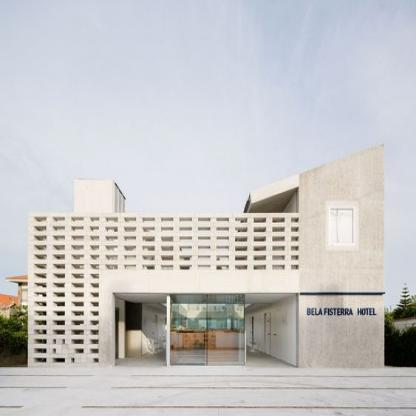Building Outline: (27, 142, 385, 367)
Deco: (307, 307, 377, 316)
Door: (246, 293, 299, 366), (115, 293, 167, 366), (264, 312, 270, 356)
Facade: (27, 142, 385, 368)
Floor Slab: (100, 281, 384, 292)
Glass Wall: (170, 294, 245, 366)
Window: (331, 210, 352, 243), (34, 245, 47, 250), (34, 235, 47, 240), (34, 217, 47, 222), (34, 329, 47, 334), (34, 358, 47, 363), (34, 348, 47, 353), (34, 339, 47, 344), (34, 254, 47, 259), (34, 226, 47, 231), (53, 245, 66, 250), (53, 235, 66, 240), (53, 217, 66, 222), (53, 329, 66, 334), (53, 358, 66, 363), (53, 348, 66, 353), (53, 339, 66, 344), (53, 254, 66, 259), (53, 226, 66, 231), (71, 245, 83, 250), (71, 235, 83, 240), (71, 217, 83, 222), (71, 329, 83, 334), (71, 358, 83, 363), (71, 348, 83, 353), (71, 339, 83, 344), (71, 254, 83, 259), (71, 226, 83, 231), (124, 236, 136, 241), (124, 217, 136, 222), (124, 227, 136, 232), (124, 265, 136, 270), (124, 246, 136, 251), (124, 256, 136, 261), (143, 217, 155, 222), (143, 227, 155, 232), (143, 256, 155, 261), (143, 265, 155, 270), (143, 236, 155, 241), (143, 246, 155, 251), (162, 217, 174, 222), (162, 227, 174, 232), (162, 256, 174, 261), (162, 265, 174, 270), (162, 236, 174, 241), (162, 246, 174, 251), (180, 217, 192, 222), (180, 227, 192, 232), (180, 256, 192, 261), (180, 265, 192, 270), (180, 236, 192, 241), (180, 246, 192, 251), (199, 217, 211, 222), (199, 227, 211, 232), (199, 256, 211, 261), (199, 265, 211, 270), (199, 236, 211, 241), (199, 246, 211, 251), (217, 217, 229, 222), (217, 227, 229, 232), (217, 256, 229, 261), (217, 265, 229, 270), (217, 236, 229, 241), (217, 246, 229, 251), (236, 217, 248, 222), (236, 227, 248, 232), (236, 256, 248, 261), (236, 265, 248, 270), (236, 236, 248, 241), (236, 246, 248, 251), (254, 217, 266, 222), (254, 227, 266, 232), (254, 256, 266, 261), (254, 265, 266, 270), (254, 236, 266, 241), (254, 246, 266, 251), (273, 217, 285, 222), (273, 227, 285, 232), (273, 256, 285, 261), (273, 265, 285, 270), (273, 236, 285, 241), (273, 246, 285, 251), (107, 227, 118, 232), (107, 255, 118, 260), (107, 265, 118, 270), (107, 246, 118, 251), (107, 236, 118, 241), (107, 217, 118, 222), (34, 292, 47, 296), (34, 321, 47, 325), (34, 311, 47, 315), (34, 302, 47, 306), (34, 283, 47, 287), (34, 273, 47, 277), (34, 264, 47, 268), (53, 292, 66, 296), (53, 321, 66, 325), (53, 311, 66, 315), (53, 302, 66, 306), (53, 283, 66, 287), (53, 273, 66, 277), (53, 264, 66, 268), (71, 292, 83, 296), (71, 321, 83, 325), (71, 311, 83, 315), (71, 302, 83, 306), (71, 283, 83, 287), (71, 273, 83, 277), (71, 264, 83, 268), (90, 358, 99, 363), (90, 349, 99, 354), (90, 339, 99, 344), (90, 245, 99, 250), (90, 236, 99, 241), (90, 226, 99, 231), (90, 217, 99, 222), (90, 255, 99, 260), (291, 265, 299, 270), (291, 246, 299, 251), (291, 256, 299, 261), (291, 236, 299, 241), (291, 217, 299, 222), (291, 227, 299, 232), (90, 331, 99, 335), (90, 283, 99, 287), (90, 274, 99, 278), (90, 264, 99, 268), (90, 321, 99, 325), (90, 312, 99, 316), (90, 302, 99, 306), (90, 293, 99, 297)
